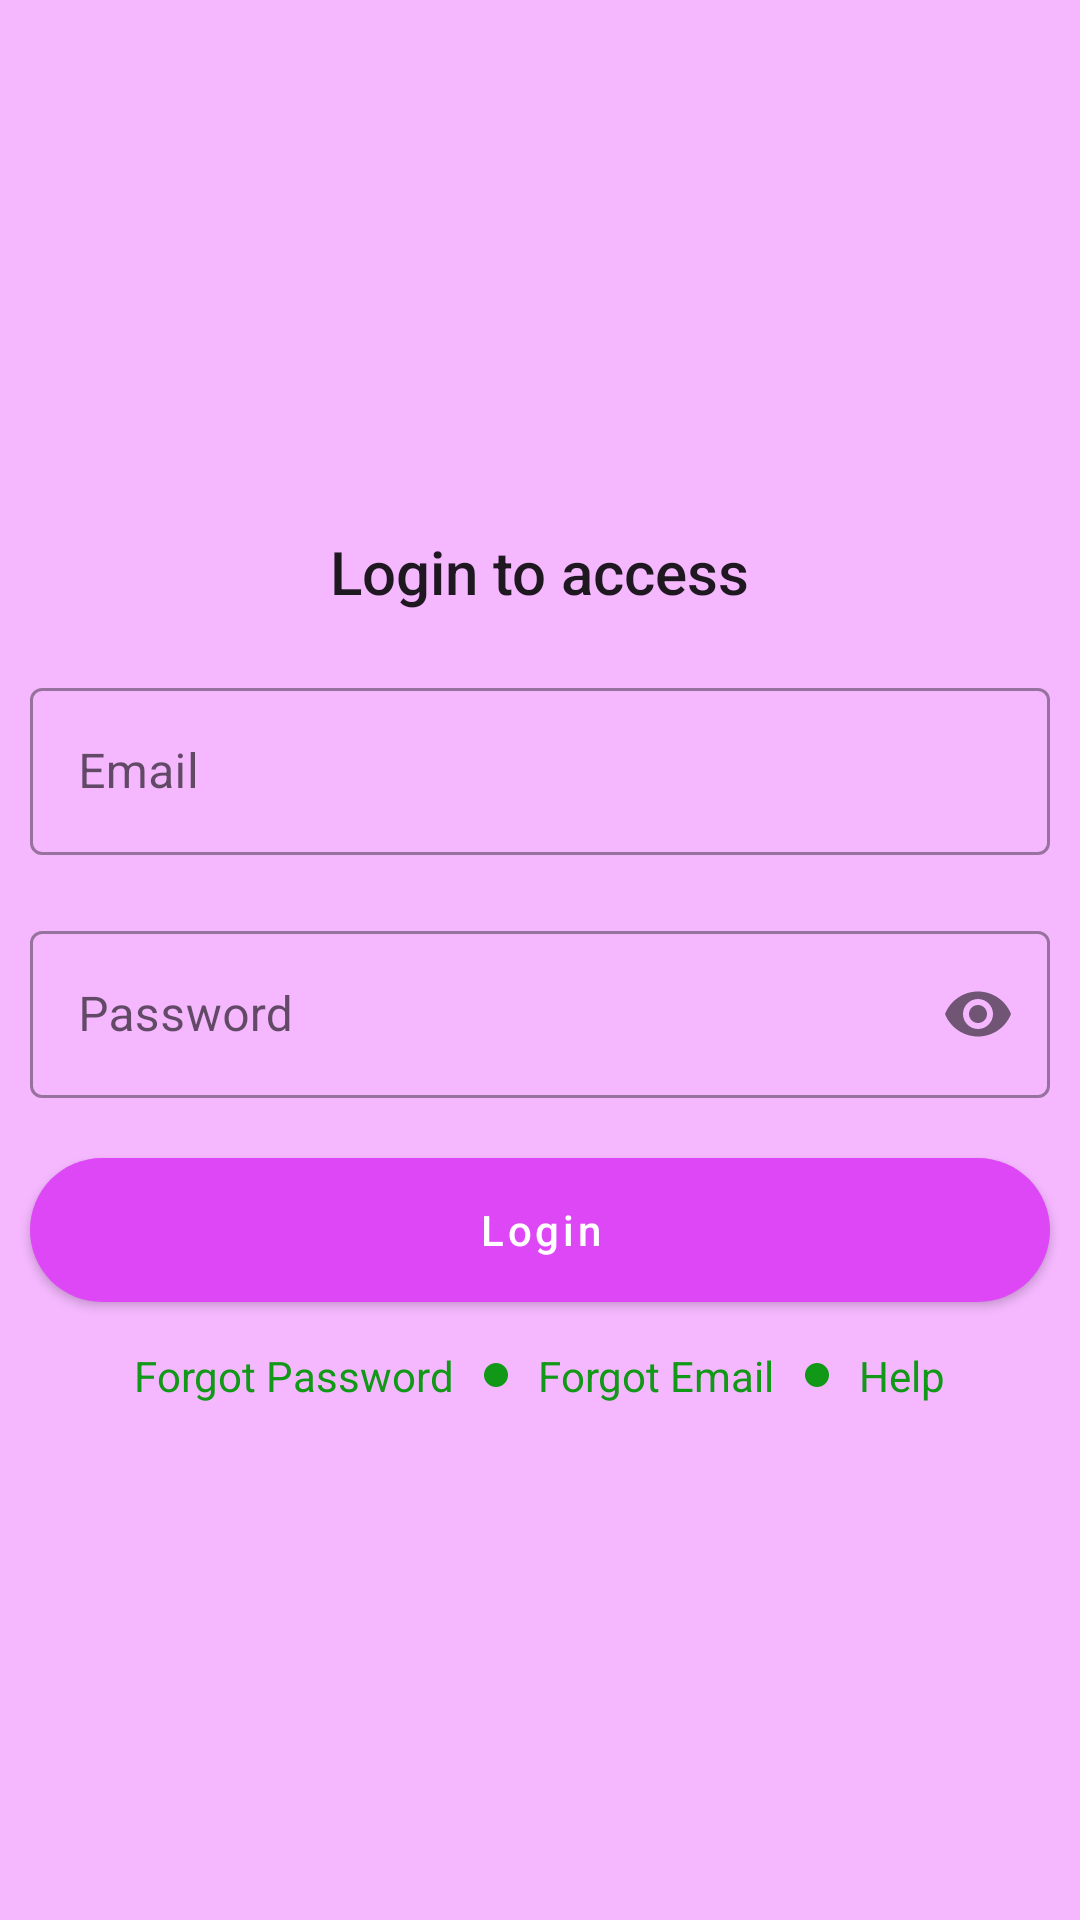

Locate icon controls on the screen. Image size 1080*1920, boxes as (x1, y1, x2, y2).
dot: (484, 1363, 508, 1387), (805, 1363, 829, 1387)
